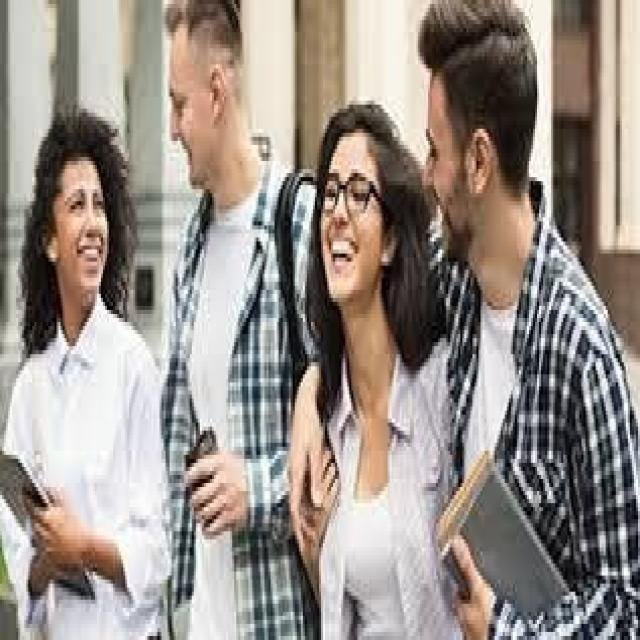person: (404, 8, 638, 620), (139, 0, 293, 636), (4, 68, 164, 636), (289, 72, 432, 636)
